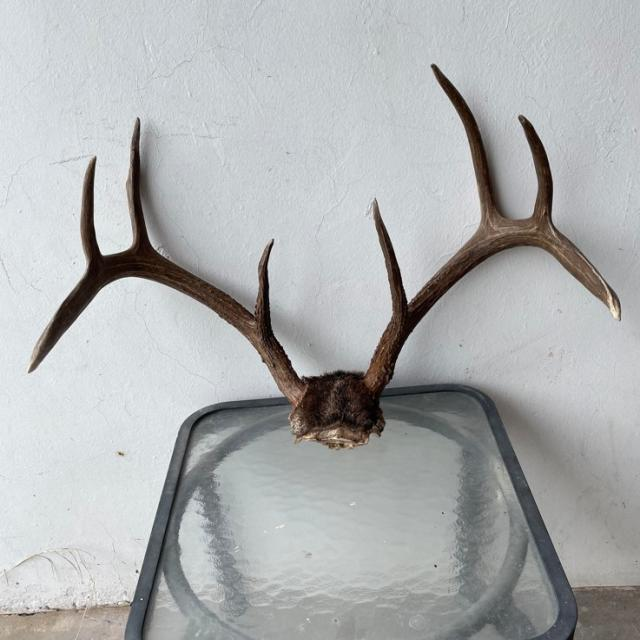L-F: (363, 218, 621, 401)
L-G1: (373, 196, 408, 314)
L-G2: (430, 62, 503, 224)
L-G3: (518, 114, 553, 223)
R-F: (26, 249, 307, 414)
R-G1: (254, 239, 275, 328)
R-G2: (126, 117, 155, 253)
R-G3: (80, 155, 103, 267)
